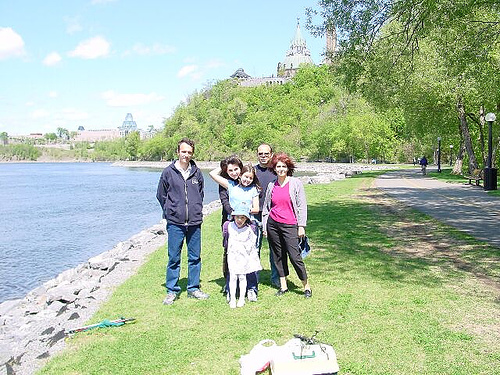without_mask: (174, 141, 196, 165), (254, 142, 273, 165), (272, 160, 292, 180), (224, 160, 243, 180), (239, 168, 257, 189), (232, 211, 250, 230)
